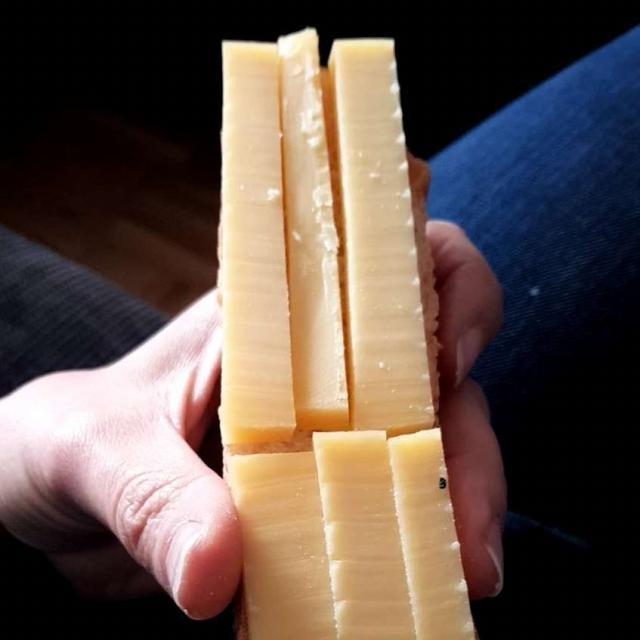gruyere: (218, 42, 465, 638)
